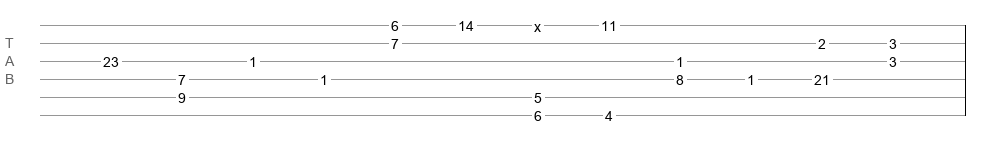1: (249, 54, 257, 64), (320, 72, 328, 82), (676, 54, 684, 64), (747, 72, 755, 82)
11: (601, 18, 617, 28)
14: (458, 18, 474, 28)
2: (818, 36, 826, 46)
21: (814, 72, 830, 82)
23: (103, 54, 119, 64)
3: (889, 36, 897, 46), (889, 54, 897, 64)
4: (605, 108, 613, 118)
5: (534, 90, 542, 100)
6: (391, 18, 399, 28), (534, 108, 542, 118)
7: (178, 72, 186, 82), (391, 36, 399, 46)
8: (676, 72, 684, 82)
9: (178, 90, 186, 100)
x: (534, 19, 541, 27)
